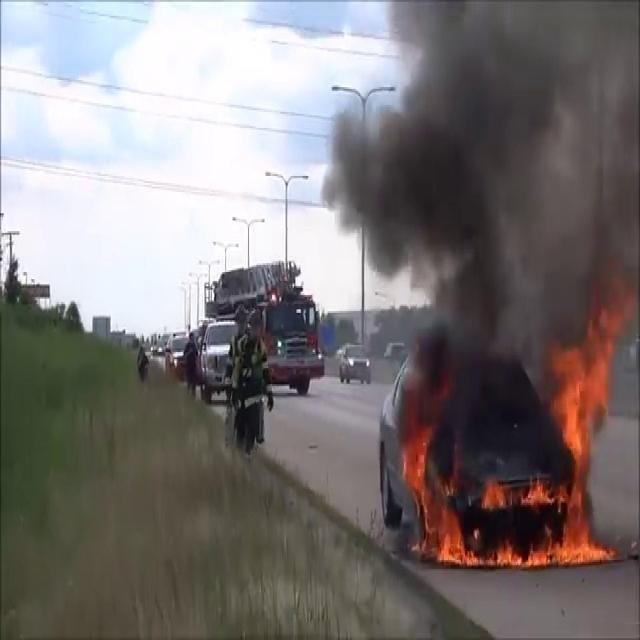Fire: (398, 428, 616, 570), (547, 284, 626, 554)
Smoke: (328, 0, 640, 404)
